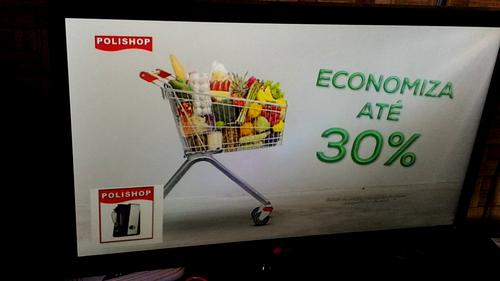Polishop #1: (89, 184, 163, 251)
